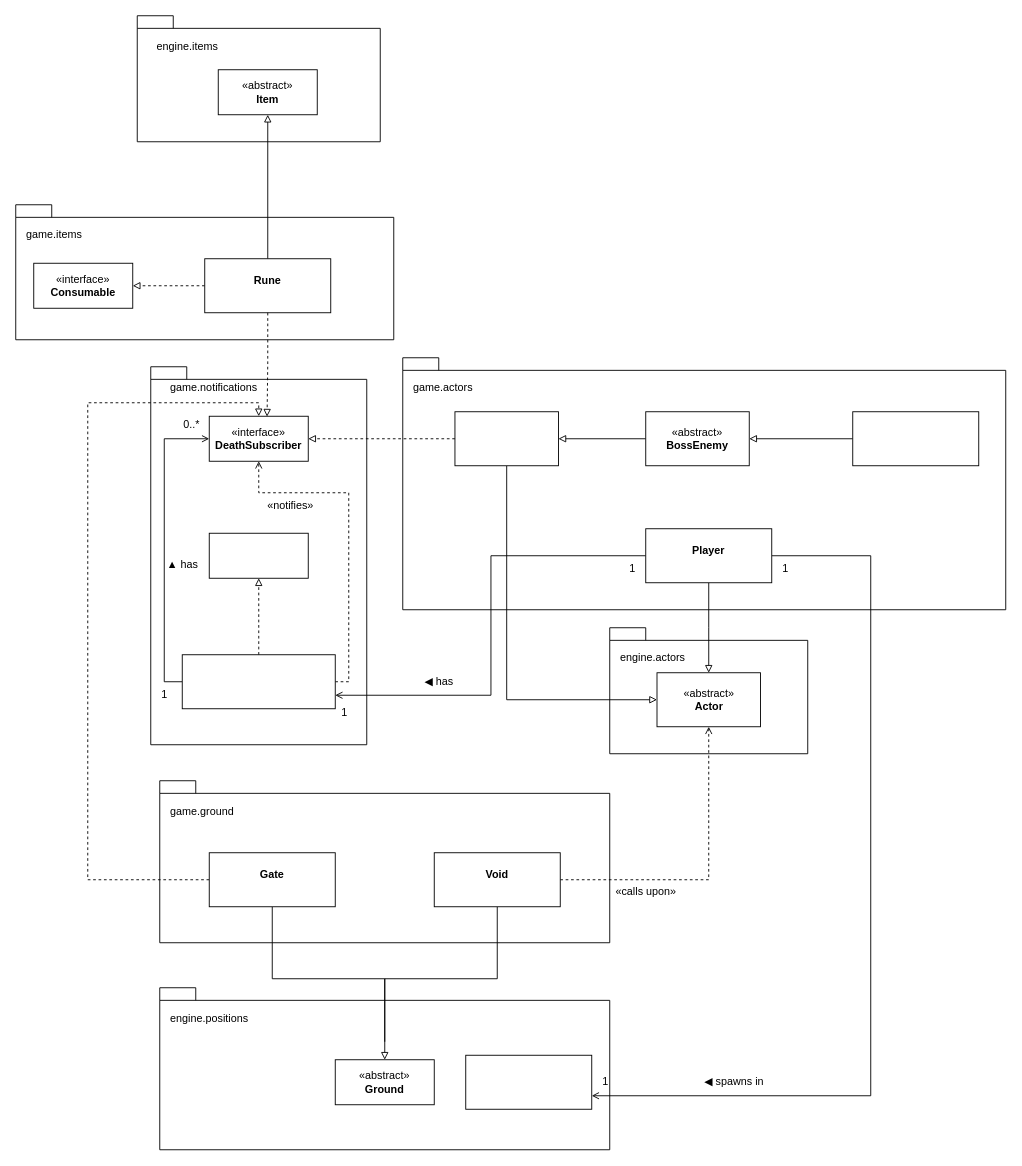
The diagram is 1022 pixels wide and 1166 high, and some of its shapes have lost their labels. Each missing label, with the centre of its shape:
Abxervyer: point (915, 438)
GameMap: point (528, 1081)
PlayerDeathMessageBus: point (258, 681)
«abstract» EnemyActor: point (506, 438)
«interface» DeathPublisher: point (258, 555)
